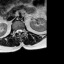CCS_normal: (18, 26, 20, 37)
LFS_normal: (22, 26, 24, 34)
LLS_normal: (20, 26, 22, 34)
RFS_normal: (14, 27, 16, 35)
RLS_normal: (16, 27, 18, 34)
